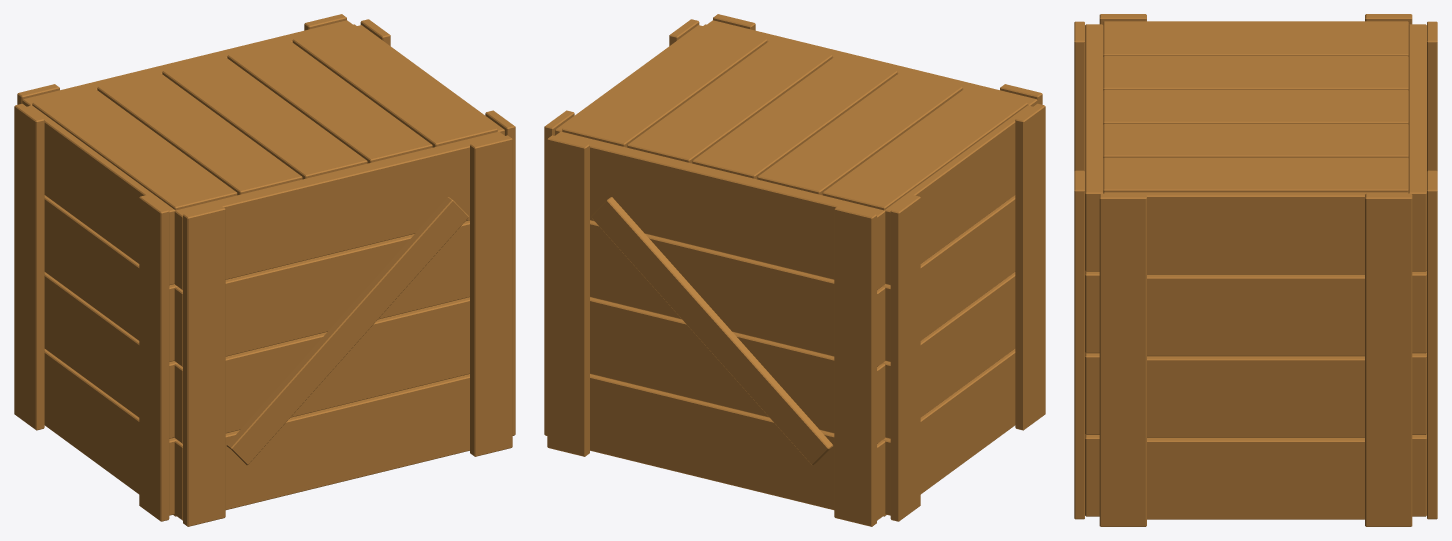
Rendered from Crate.glb.
The picture shows the model from 3 angles, left to right: view 1: azimuth 30°, elevation 25°; view 2: azimuth 150°, elevation 25°; view 3: azimuth 270°, elevation 25°; orthographic projection. The views are drawn at different scales.
Visible parts, largest first — view 1: MovableCrate; view 2: MovableCrate; view 3: MovableCrate.
Boxes of the visible parts, bbox=[...] form: MovableCrate: bbox=[14, 14, 515, 526]; MovableCrate: bbox=[544, 14, 1045, 526]; MovableCrate: bbox=[1074, 14, 1437, 526].
Bounding box in the file's own units: 0.6 × 0.5 × 0.5.
1 material, 1 textured.
